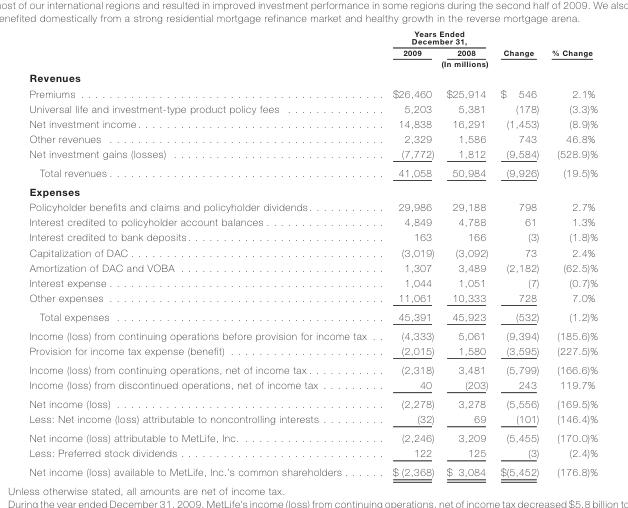table: (28, 28, 597, 477)
table column: (28, 28, 378, 477), (378, 28, 439, 477), (439, 28, 493, 477), (544, 28, 597, 477), (493, 28, 544, 477)
table column header: (28, 28, 597, 69)
table projected row header: (28, 181, 597, 199), (28, 69, 597, 85)
table row: (28, 306, 597, 325), (28, 28, 597, 46), (28, 163, 597, 181), (28, 181, 597, 199), (28, 342, 597, 360), (28, 146, 597, 163), (28, 289, 597, 306), (28, 325, 597, 342), (28, 360, 597, 377), (28, 377, 597, 394), (28, 394, 597, 411), (28, 411, 597, 428), (28, 428, 597, 445), (28, 445, 597, 462), (28, 69, 597, 85), (28, 130, 597, 146), (28, 85, 597, 100), (28, 100, 597, 115), (28, 115, 597, 130), (28, 199, 597, 214), (28, 214, 597, 229), (28, 229, 597, 244), (28, 244, 597, 259), (28, 259, 597, 274), (28, 274, 597, 289), (28, 462, 597, 477), (28, 57, 597, 69), (28, 46, 597, 57)
table spanning cell: (544, 28, 597, 69), (378, 28, 493, 46), (378, 57, 544, 69), (493, 28, 544, 57)
